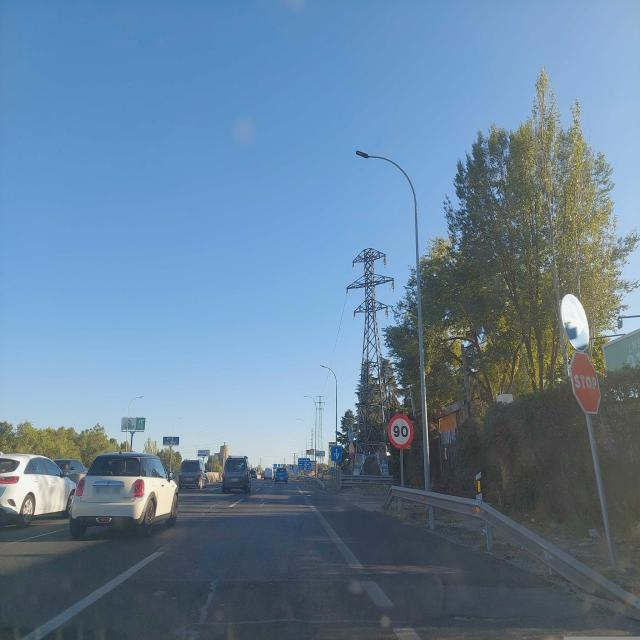car: (69, 450, 179, 539), (0, 452, 78, 527), (221, 455, 251, 494), (177, 458, 208, 490), (52, 458, 88, 483), (272, 466, 289, 484), (263, 467, 273, 480), (248, 469, 258, 480), (256, 469, 264, 480)
